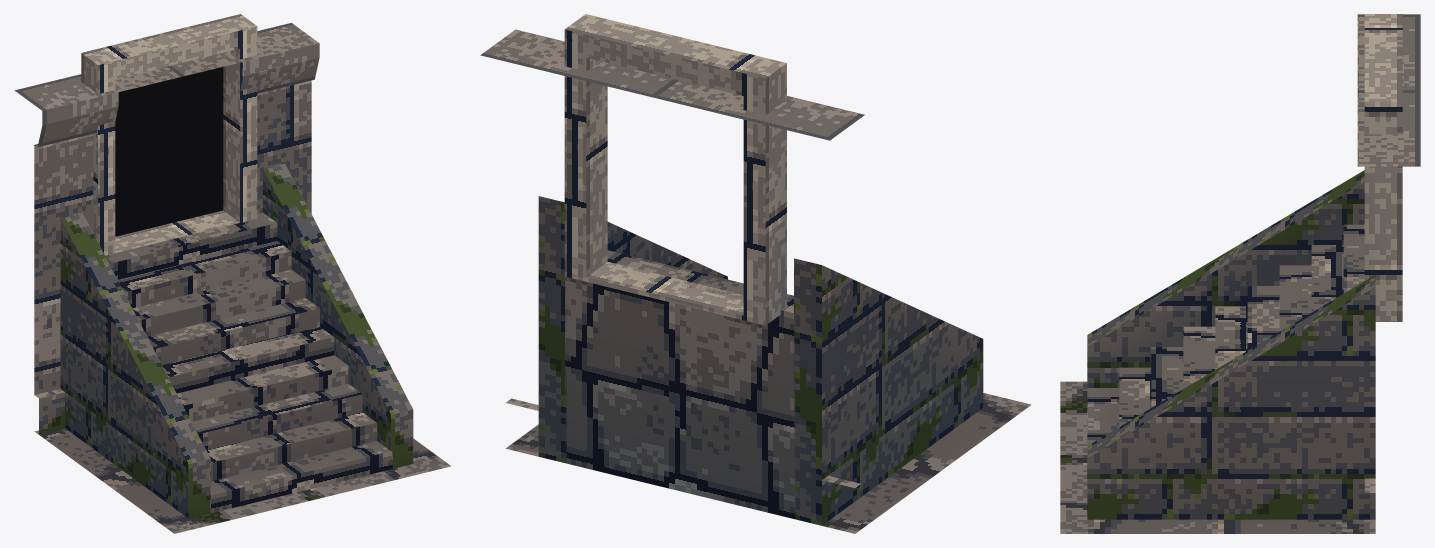
The model's file is dgn.stairs__up.glb.
3 views of the same model, side by side, from view 1: azimuth 30°, elevation 25°; view 2: azimuth 150°, elevation 25°; view 3: azimuth 270°, elevation 25° (orthographic). The views are drawn at different scales.
Visible parts, largest first — view 1: kit_steps, kit_cheeks, kit_shell_wall, kit_portal_frame, kit_card_portal, kit_shell_floor; view 2: kit_steps, kit_cheeks, kit_portal_frame, kit_shell_wall, kit_shell_floor; view 3: kit_cheeks, kit_steps, kit_portal_frame, kit_shell_floor, kit_shell_wall.
Boxes of the visible parts, x1,y1,x2,y2 form: kit_steps: [105, 212, 392, 513]; kit_cheeks: [60, 163, 413, 518]; kit_shell_wall: [14, 23, 319, 434]; kit_portal_frame: [81, 14, 257, 255]; kit_card_portal: [115, 67, 223, 236]; kit_shell_floor: [34, 428, 450, 533]; kit_steps: [565, 250, 795, 519]; kit_cheeks: [538, 196, 983, 525]; kit_portal_frame: [564, 14, 786, 325]; kit_shell_wall: [480, 29, 864, 487]; kit_shell_floor: [506, 393, 1031, 533]; kit_cheeks: [1087, 170, 1375, 519]; kit_steps: [1087, 224, 1364, 445]; kit_portal_frame: [1364, 14, 1402, 321]; kit_shell_floor: [1060, 381, 1375, 533]; kit_shell_wall: [1357, 14, 1420, 493].
Size of the model in its own units: 4 by 4.9 by 4.
Materials: 7 (7 with a texture image).
